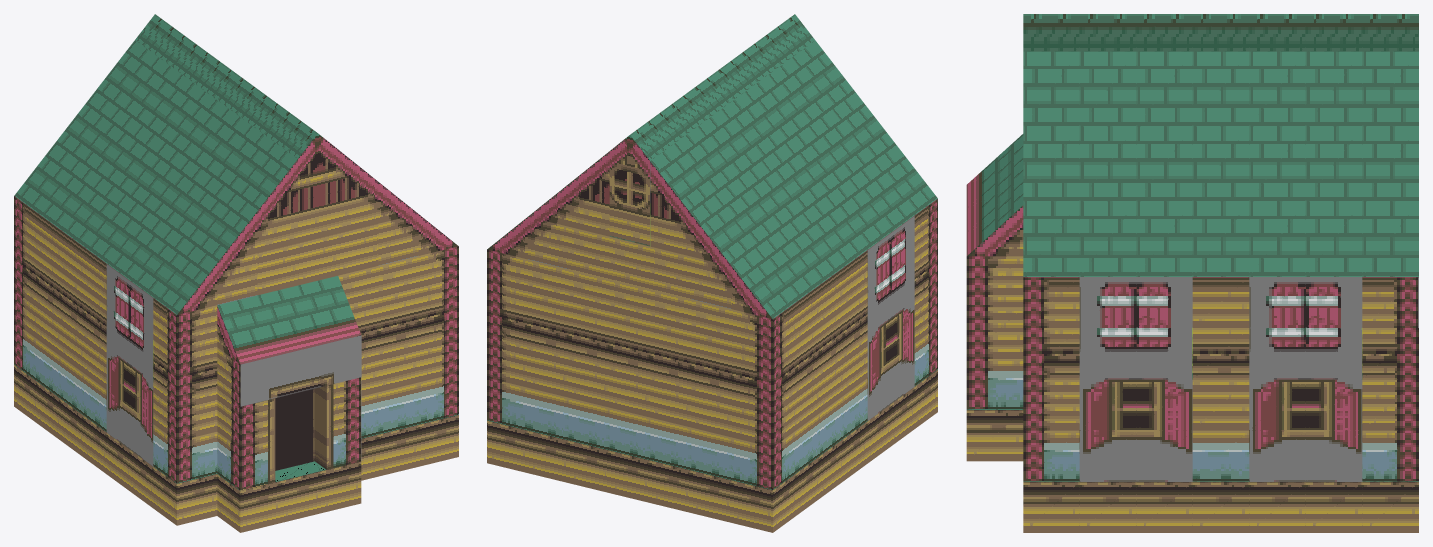
File: house1.glb
The picture shows the model from 3 angles, left to right: view 1: azimuth 30°, elevation 25°; view 2: azimuth 150°, elevation 25°; view 3: azimuth 270°, elevation 25°; orthographic projection. The views are drawn at different scales.
Visible parts, largest first — view 1: Scenario.006; view 2: Scenario.006; view 3: Scenario.006.
Part boxes in pixels (x1,y1,x2,y2): Scenario.006: (14,14,458,532); Scenario.006: (487,14,937,532); Scenario.006: (966,14,1418,532).
Bounding box in the file's own units: 7.02 × 8.5 × 8.01.
1 material, 1 textured.
